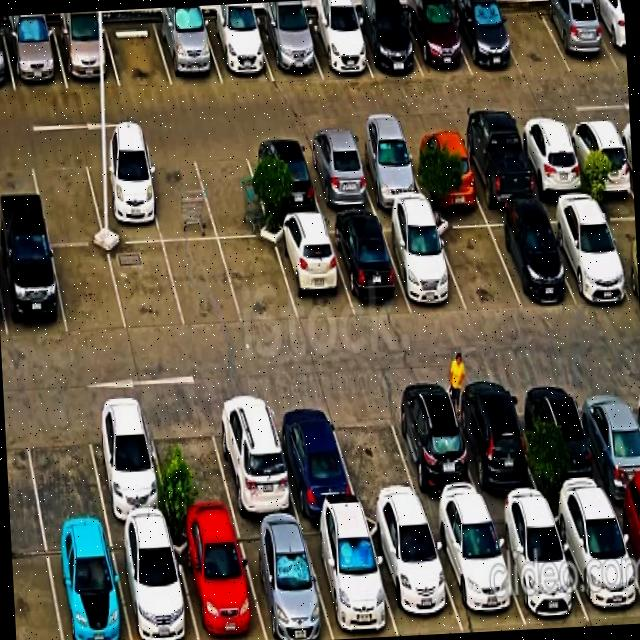empty: (30, 426, 102, 544), (160, 427, 227, 536), (341, 420, 412, 522), (446, 222, 512, 314), (114, 236, 174, 328), (57, 247, 119, 335), (152, 146, 208, 242), (207, 142, 264, 234), (36, 162, 96, 246), (225, 234, 283, 320), (109, 8, 165, 92), (171, 236, 228, 318), (502, 0, 556, 70)
occupied: (569, 512, 640, 627), (217, 426, 290, 537), (251, 531, 322, 640), (383, 526, 453, 636), (317, 526, 384, 640), (94, 434, 166, 540), (181, 535, 253, 640), (446, 520, 512, 634), (400, 406, 468, 516), (511, 515, 574, 630), (49, 546, 123, 640), (287, 426, 349, 538), (463, 402, 526, 508), (564, 206, 626, 313), (528, 390, 588, 500), (120, 542, 186, 640), (396, 216, 457, 316), (507, 210, 566, 312), (91, 145, 155, 238), (417, 120, 474, 220), (474, 123, 530, 223), (342, 216, 398, 316), (250, 138, 314, 225), (586, 395, 640, 498), (280, 225, 341, 316), (577, 117, 631, 215), (526, 123, 580, 220), (2, 250, 61, 336), (361, 131, 415, 218), (161, 5, 215, 90), (312, 136, 364, 218), (360, 0, 414, 78), (213, 3, 264, 82), (313, 0, 363, 80), (264, 0, 314, 79), (411, 0, 462, 75), (59, 11, 109, 85), (460, 0, 509, 73), (9, 14, 56, 90), (548, 0, 600, 61)
